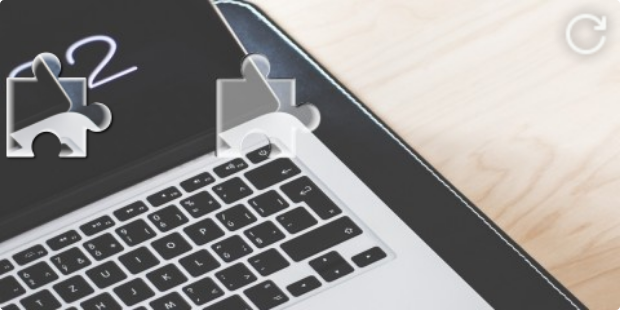target: (216, 54, 320, 160)
